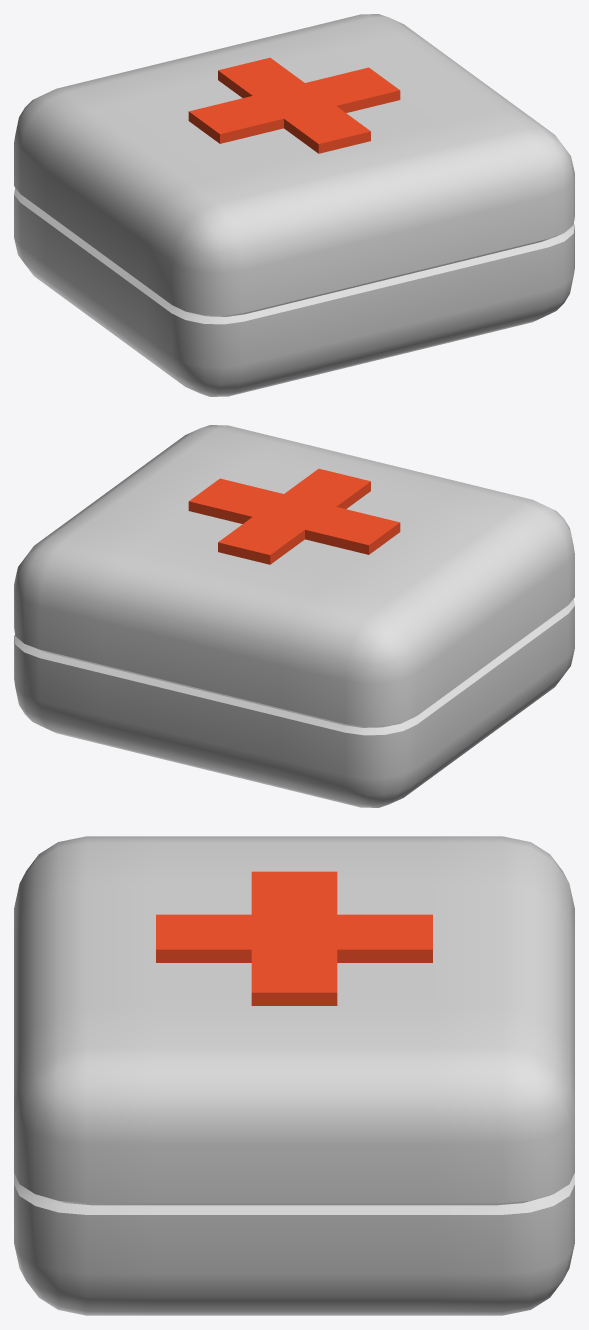
Rendered from PF_Health_Kit_01-convcol.glb.
3 views of the same model, one above another, from view 1: azimuth 30°, elevation 25°; view 2: azimuth 150°, elevation 25°; view 3: azimuth 270°, elevation 25° (orthographic). The views are drawn at different scales.
Parts seen in each view (by area): view 1: SM_Health_Kit_01-convcol; view 2: SM_Health_Kit_01-convcol; view 3: SM_Health_Kit_01-convcol.
Boxes of the visible parts, <box> form: SM_Health_Kit_01-convcol: <box>14,14,574,396</box>; SM_Health_Kit_01-convcol: <box>14,425,574,807</box>; SM_Health_Kit_01-convcol: <box>14,836,574,1315</box>.
Bounding box in the file's own units: 0.2422 × 0.1164 × 0.2157.
